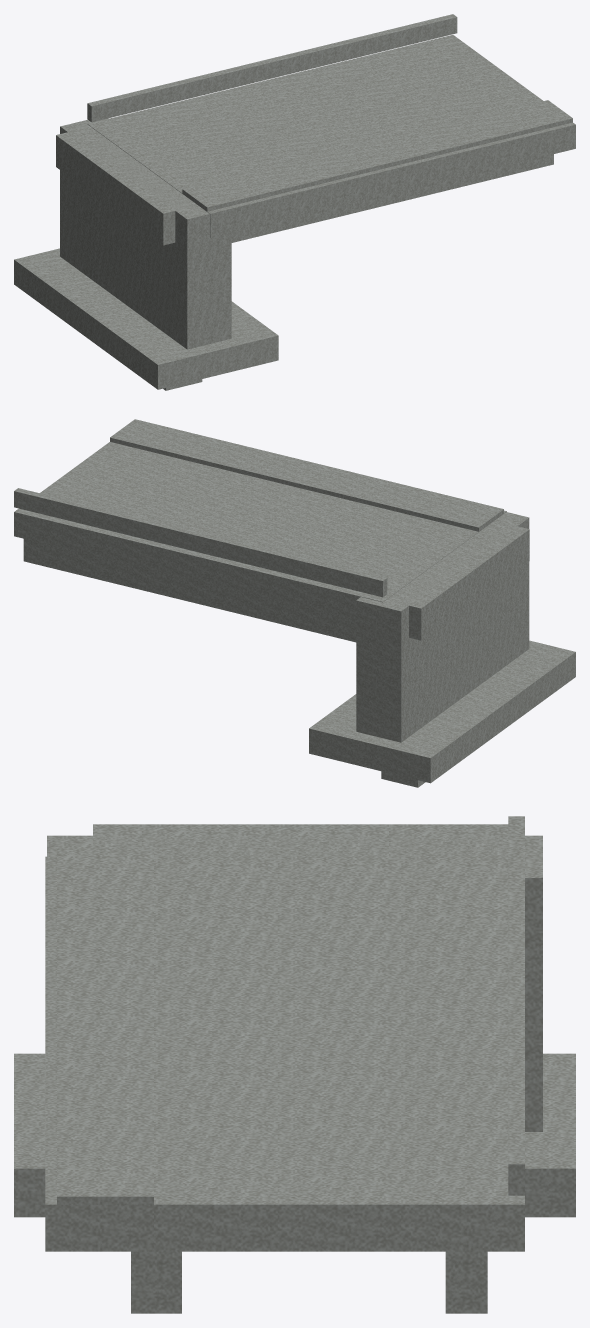
File: PZ_Rail_Viaduct_Collision_Helpers.glb
3 renders of one model, top to bottom at view 1: azimuth 30°, elevation 25°; view 2: azimuth 150°, elevation 25°; view 3: azimuth 270°, elevation 25°, orthographic. The views are drawn at different scales.
Visible parts, largest first — view 1: UCX_RailDeck_10m_01, UCX_Abutment_Core, UCX_Abutment_Base, UCX_ServiceWalk_10m_01, UCX_ParapetFar, UCX_Pier5_Cap, UCX_RailDeck_GirderNear; view 2: UCX_RailDeck_10m_01, UCX_Abutment_Core, UCX_Abutment_Base, UCX_ServiceWalk_10m_01, UCX_ParapetFar, UCX_RailDeck_GirderFar, UCX_Pier5_Cap; view 3: UCX_RailDeck_10m_01, UCX_ServiceWalk_10m_01, UCX_Pier5_Cap, UCX_Abutment_Base, UCX_Abutment_Core, UCX_ParapetFar, UCX_RailDeck_GirderNear, UCX_RailDeck_GirderFar.
Boxes of the visible parts, <box> form: UCX_RailDeck_10m_01: <box>87,35,575,237</box>; UCX_Abutment_Core: <box>60,118,231,349</box>; UCX_Abutment_Base: <box>14,248,278,389</box>; UCX_ServiceWalk_10m_01: <box>182,100,572,211</box>; UCX_ParapetFar: <box>87,14,457,122</box>; UCX_Pier5_Cap: <box>56,132,197,245</box>; UCX_RailDeck_GirderNear: <box>231,154,553,242</box>; UCX_RailDeck_10m_01: <box>14,442,506,619</box>; UCX_Abutment_Core: <box>356,512,529,742</box>; UCX_Abutment_Base: <box>309,640,575,783</box>; UCX_ServiceWalk_10m_01: <box>110,419,503,531</box>; UCX_ParapetFar: <box>14,488,387,597</box>; UCX_RailDeck_GirderFar: <box>23,539,356,642</box>; UCX_Pier5_Cap: <box>351,520,529,640</box>; UCX_RailDeck_10m_01: <box>45,856,524,1251</box>; UCX_ServiceWalk_10m_01: <box>57,848,153,1205</box>; UCX_Pier5_Cap: <box>93,824,508,856</box>; UCX_Abutment_Base: <box>14,1053,575,1217</box>; UCX_Abutment_Core: <box>47,835,542,1131</box>; UCX_ParapetFar: <box>508,816,524,1195</box>; UCX_RailDeck_GirderNear: <box>131,1251,181,1313</box>; UCX_RailDeck_GirderFar: <box>445,1251,487,1313</box>.
Size of the model in its own units: 11.65 by 5.55 by 6.82.
Materials: 1 (1 with a texture image).
